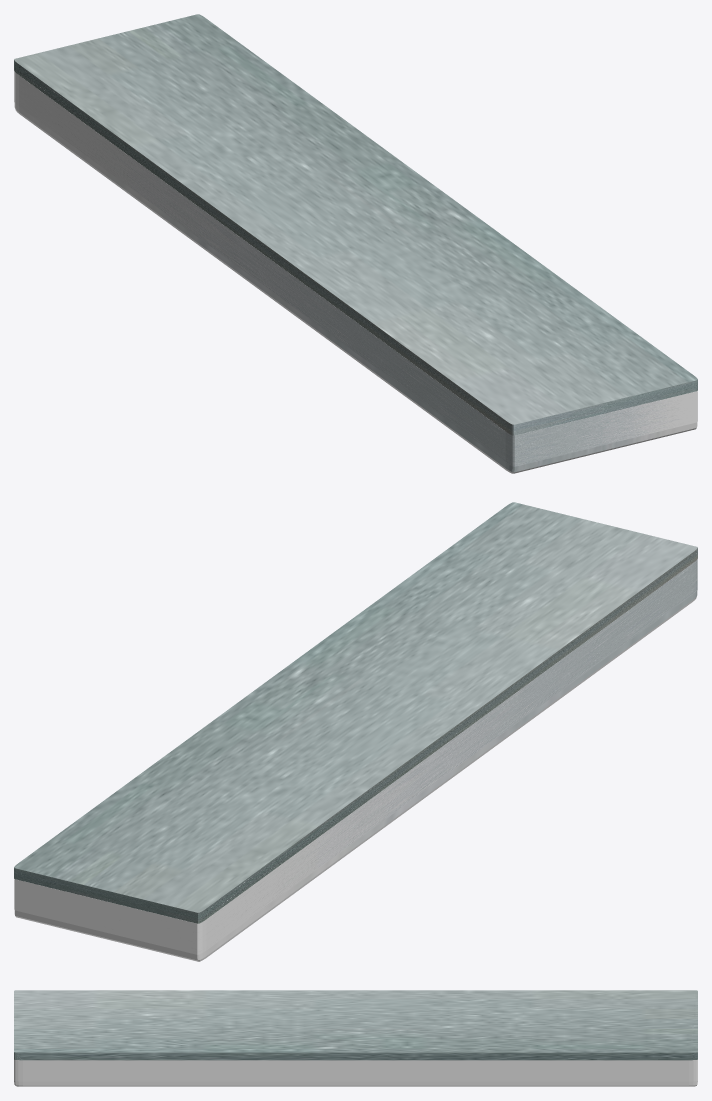
File: LAMPA WHITE.fbx
The picture shows the model from 3 angles, top to bottom: view 1: azimuth 30°, elevation 25°; view 2: azimuth 150°, elevation 25°; view 3: azimuth 270°, elevation 25°; orthographic projection. The views are drawn at different scales.
Parts seen in each view (by area): view 1: lAMPA bASE, lAMPA ligth; view 2: lAMPA bASE, lAMPA ligth; view 3: lAMPA bASE, lAMPA ligth.
Boxes of the visible parts, x1,y1,x2,y2 form: lAMPA bASE: (14,14,697,435); lAMPA ligth: (14,71,697,473); lAMPA bASE: (14,502,697,923); lAMPA ligth: (14,559,697,961); lAMPA bASE: (14,990,697,1060); lAMPA ligth: (14,1059,697,1086).
Bounding box in the file's own units: 25.98 × 6.79 × 120.
Materials: 2 (2 with a texture image).
